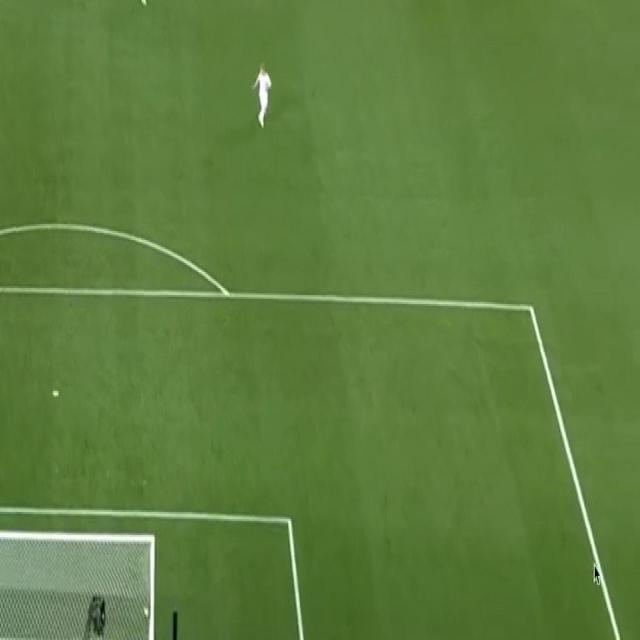player-white: (250, 60, 273, 132), (138, 0, 153, 9)
